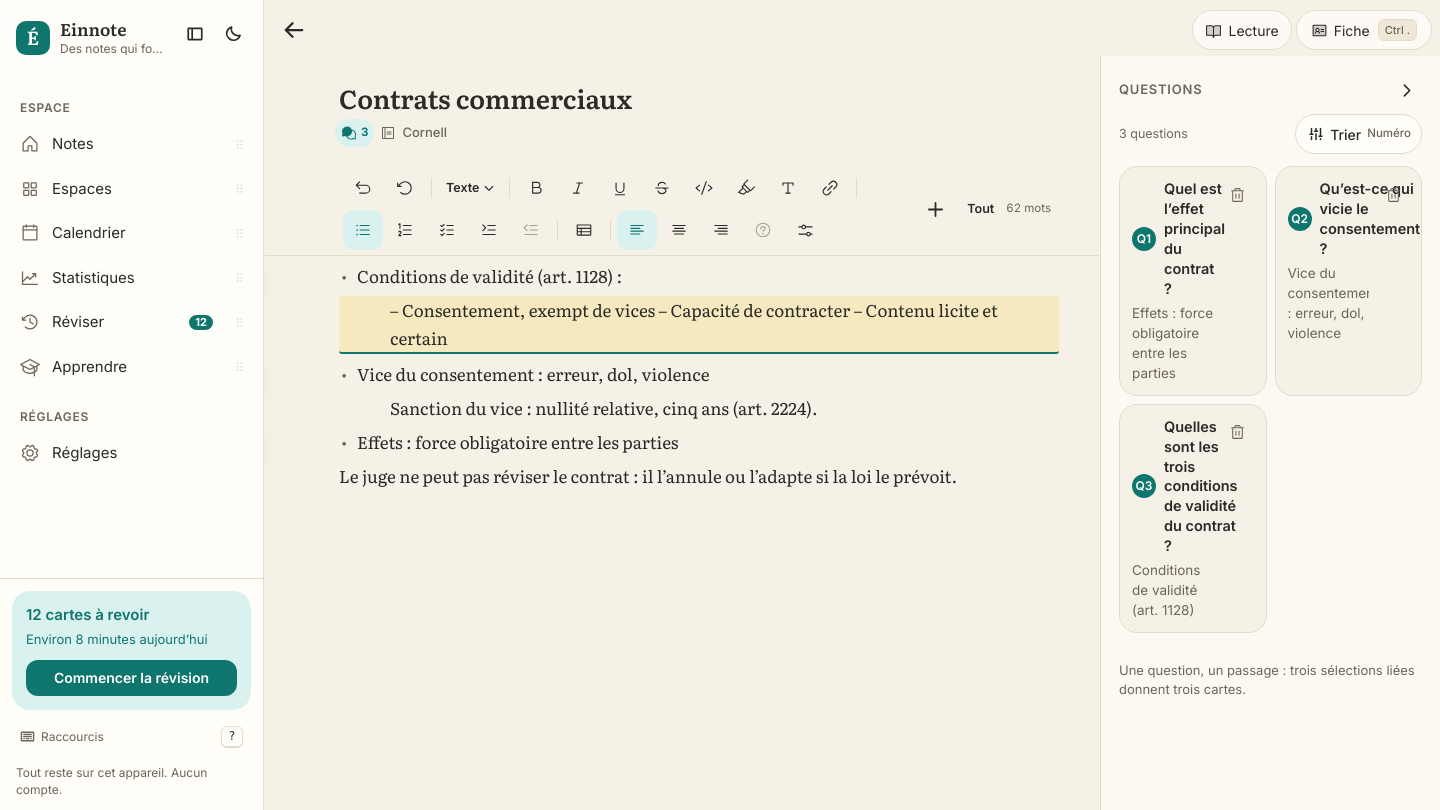
étiquettes — le menu de # › montre les étiquettes déjà disponibles dès qu’on tape #
This screenshot has width=1440, height=810.
Click the text box named "Contenu de la note".
click(699, 376)  # box [339, 262, 1059, 490]
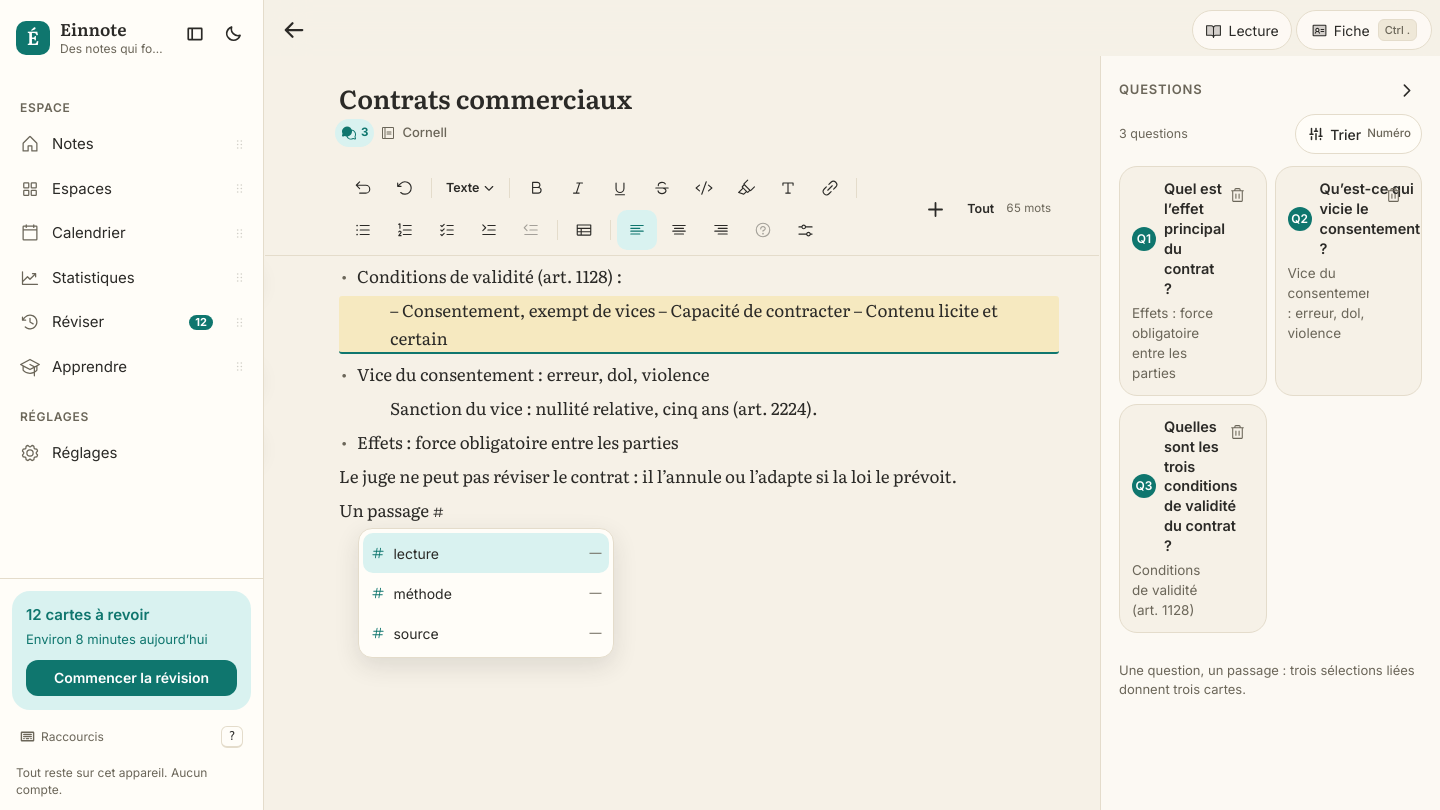
Now the option "méthode —" is shown, box [363, 573, 609, 613]
Now the option "lecture —" is shown, box [363, 533, 609, 573]
Now the option "source —" is shown, box [363, 613, 609, 653]
